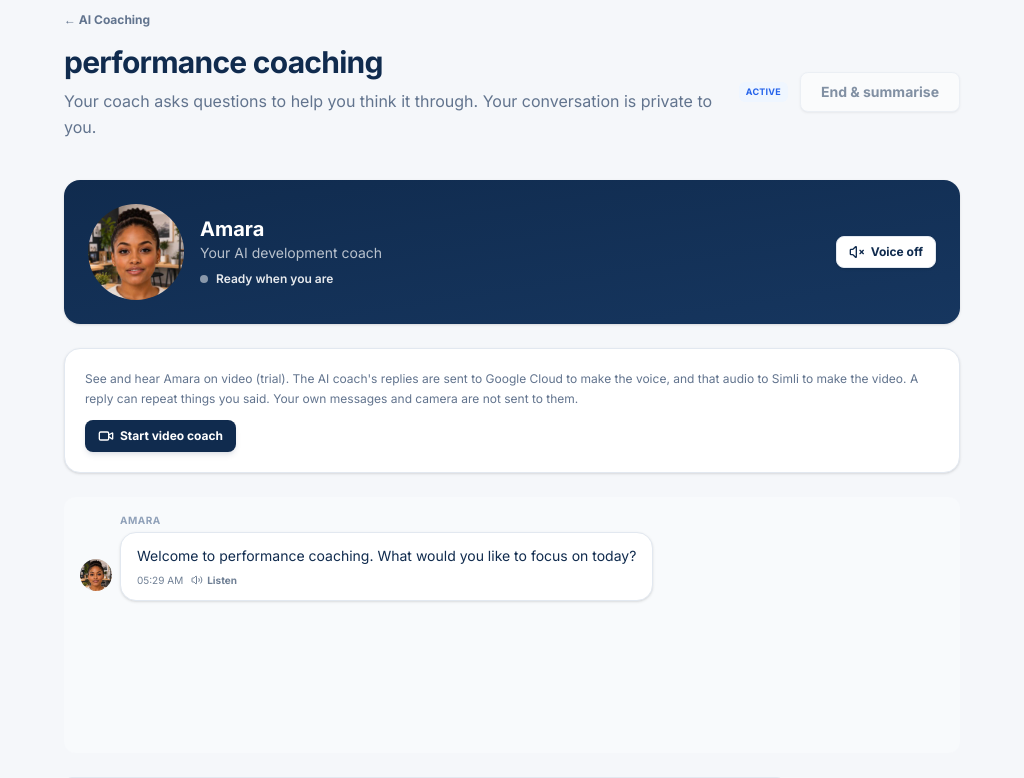
Test: Video coach › falls back with a message when Simli refuses
Check: the text "What would you like to focus on today" is shown, box left=137, top=547, right=636, bottom=564
Click the button "Start video coach" at (160,436), box left=85, top=420, right=236, bottom=452
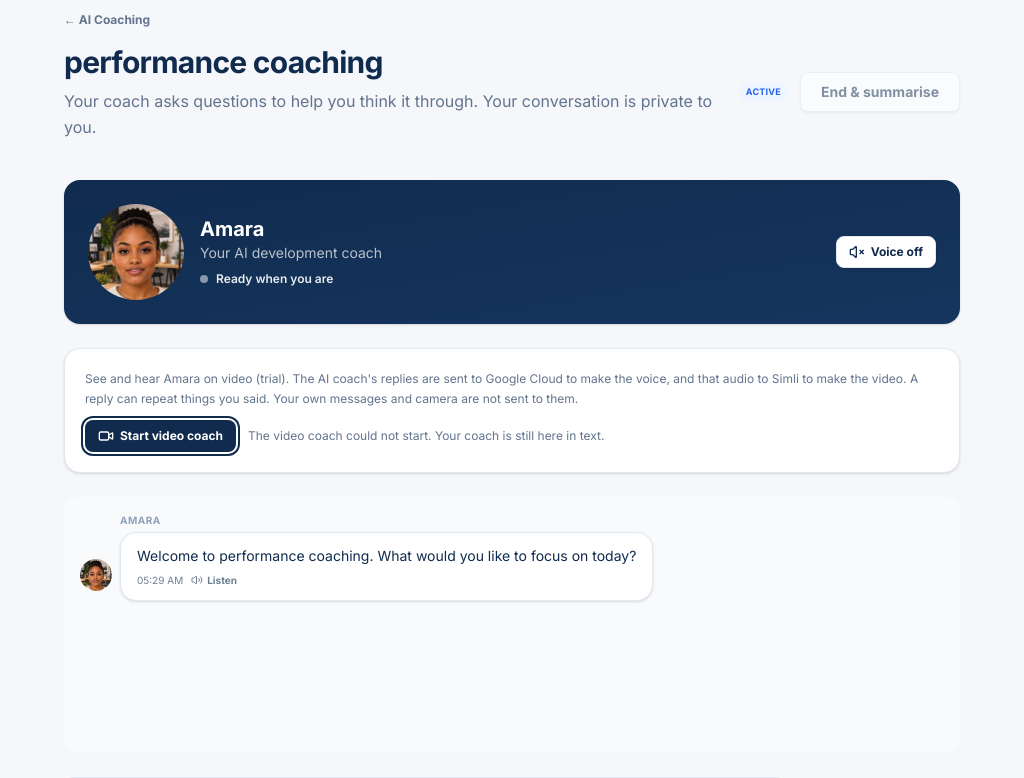
Check: the text "could not start" is shown, box left=248, top=428, right=604, bottom=443
